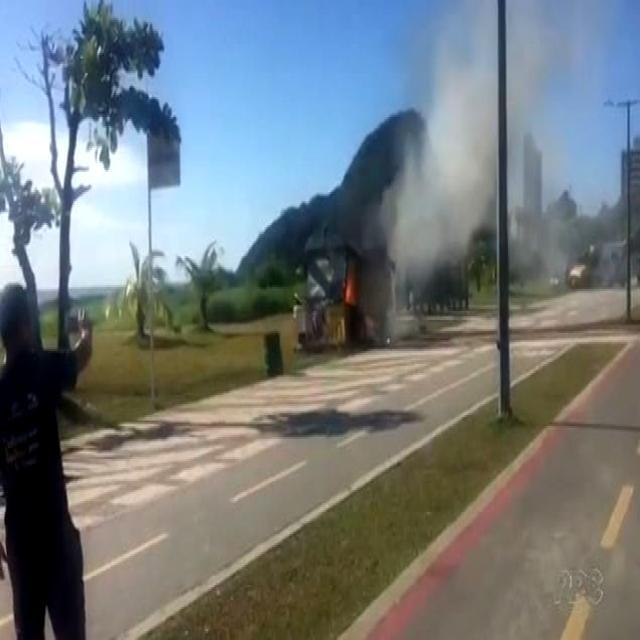Smoke: (380, 0, 590, 305)
